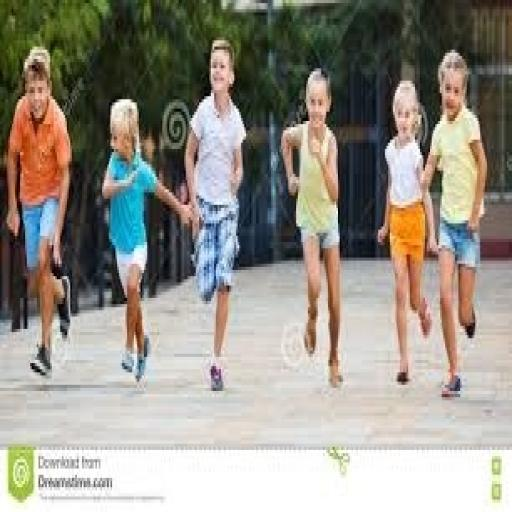running: (98, 96, 196, 391), (418, 47, 489, 400), (4, 44, 76, 382), (182, 34, 248, 394), (278, 65, 344, 391), (375, 77, 437, 388)
